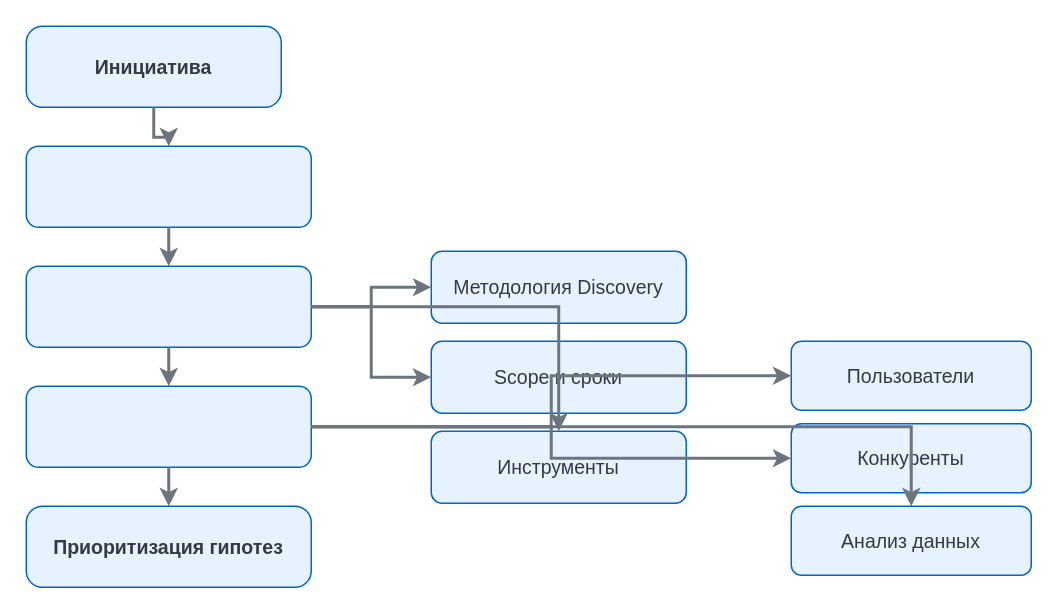
The diagram is 1058 pixels wide and 614 high, and some of its shapes have lost their labels. The centre of each missing label's shape, as x and y in pixels:
Инициализация Discovery: point (168, 186)
Исследование проблемы: point (168, 426)
Формулирование гипотез: point (168, 306)
